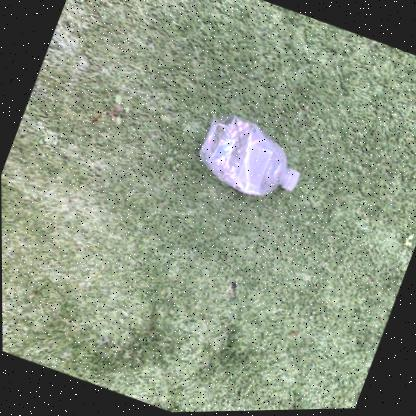Plastic: (197, 115, 297, 196)
